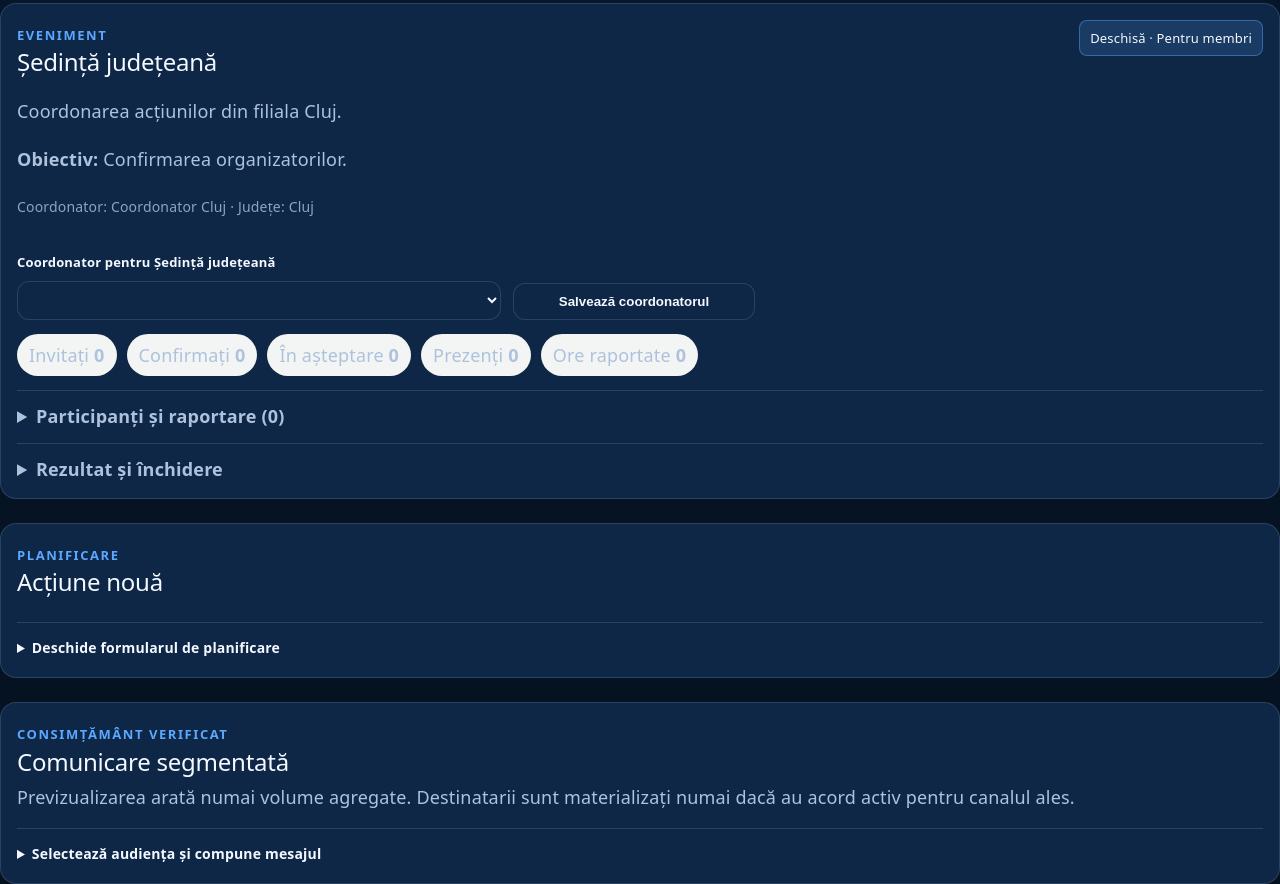
Scenario: PoliticalOperationsPage › shows operational instruments, results and consent audience preview
The width and height of the screenshot is (1280, 884).
(page scrolled)
expect the heading "Acțiune nouă" is shown: met, box [17, 565, 163, 598]
expect the heading "Ședință județeană" is shown: met, box [17, 48, 217, 76]
Click the heading "Selectează audiența și compune mesajul".
click(177, 853)  # box [32, 844, 321, 863]
(page scrolled)
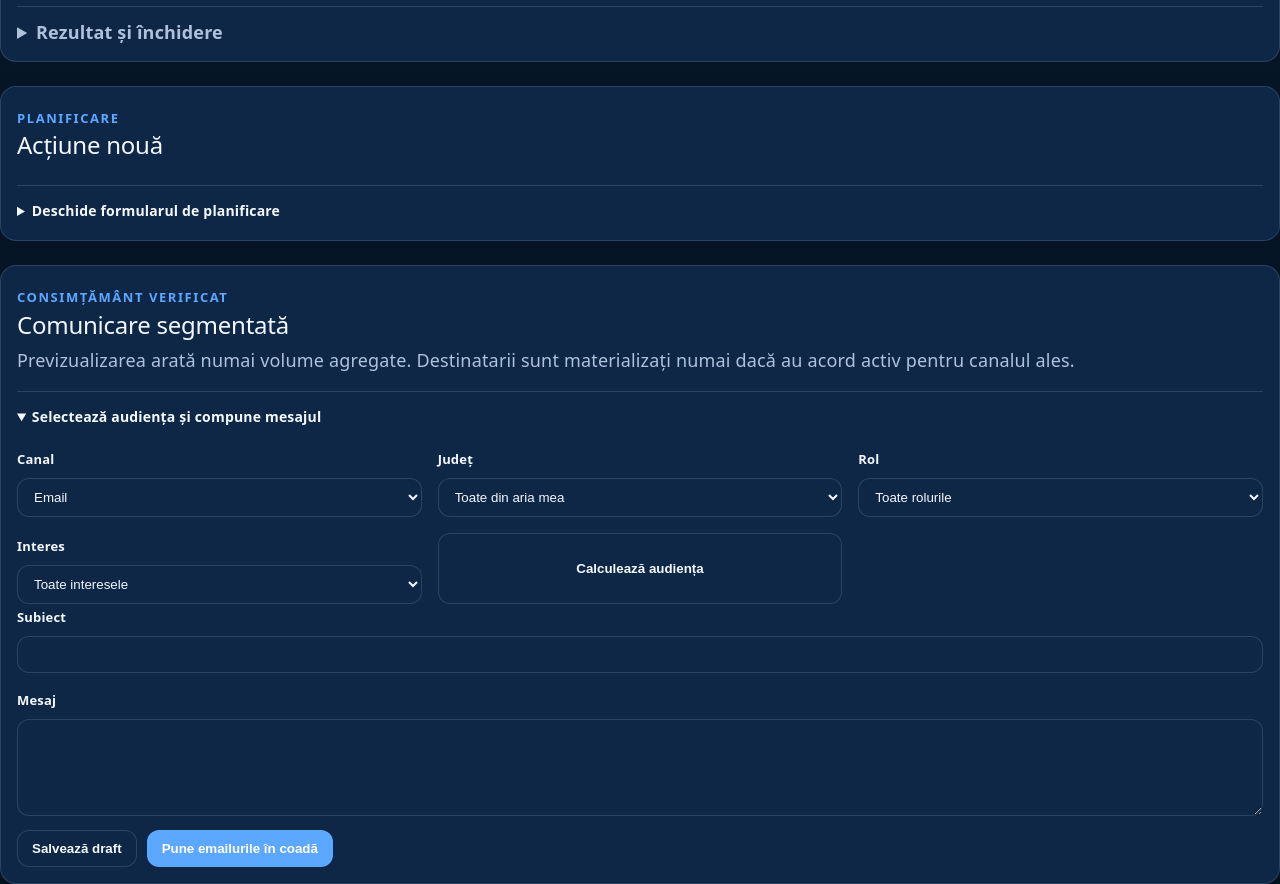
Click the button "Calculează audiența".
click(640, 569)  # box [438, 533, 842, 604]
(page scrolled)
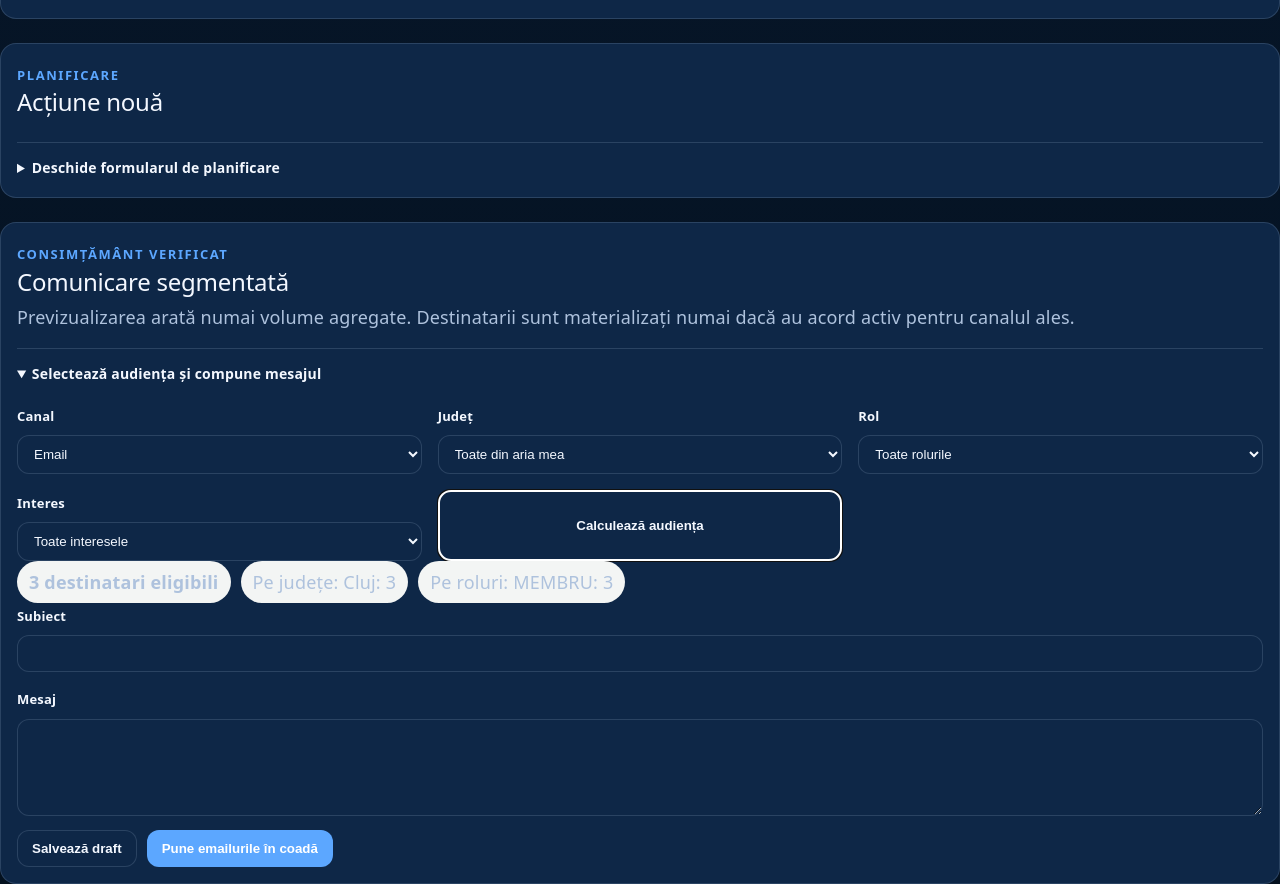
expect the button "Pune emailurile în coadă" is shown: met, box [147, 830, 333, 866]
expect the text "3 destinatari eligibili" is shown: met, box [17, 561, 230, 603]
